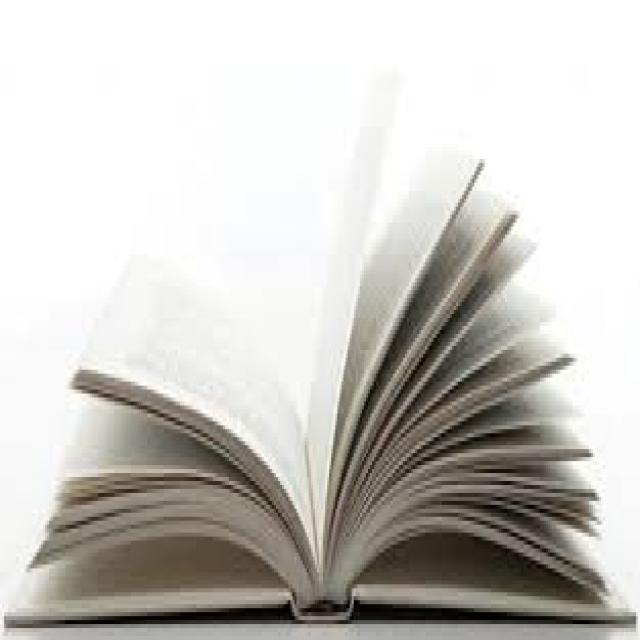paper: (2, 115, 638, 636), (69, 255, 317, 593), (321, 147, 478, 588)
